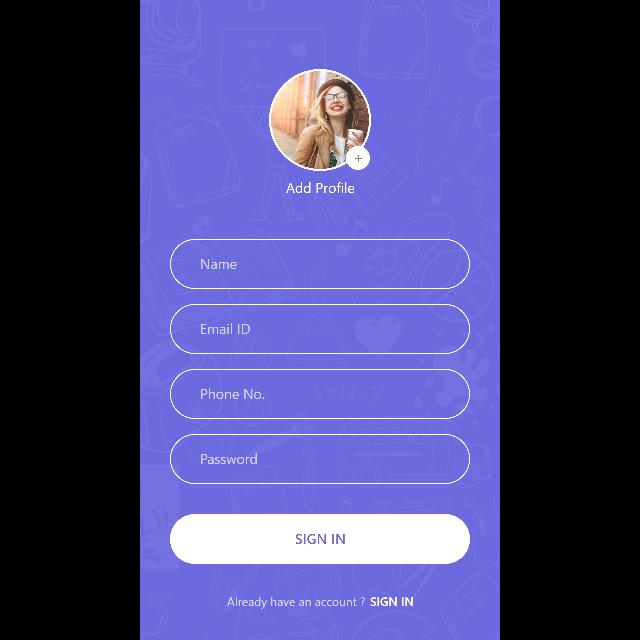backgroundimage: (140, 1, 500, 640)
icon: (346, 146, 370, 170)
image: (269, 69, 371, 171)
input: (170, 239, 470, 289), (170, 304, 470, 354), (170, 369, 470, 419), (170, 434, 470, 484)
text: (227, 597, 413, 609), (286, 182, 354, 194), (202, 388, 264, 399), (201, 454, 257, 464), (202, 324, 250, 334), (201, 259, 237, 269)
textbutton: (170, 514, 470, 564)
